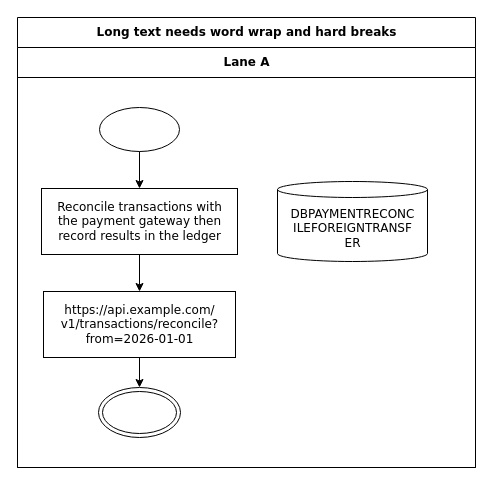
Image size: 493x485. Some labels were removed from this diagram. Each missing label, with the centre of its shape:
"Done" goes at (x=139, y=412).
"Start" goes at (x=139, y=129).
